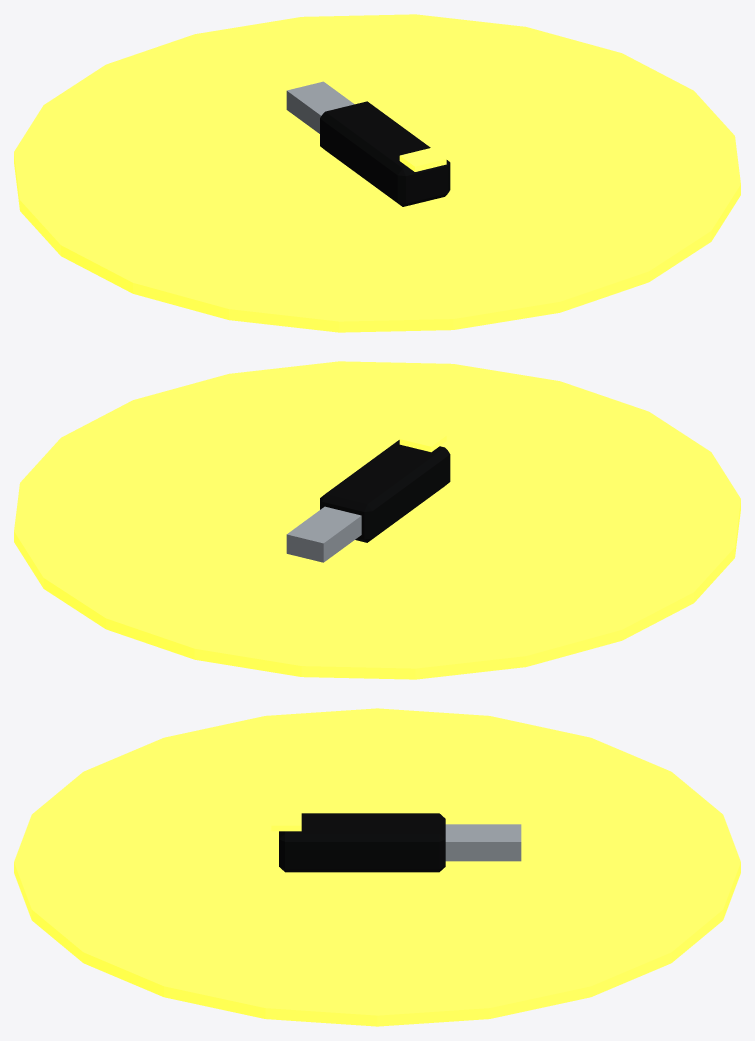
Rendered from usb_drive.glb.
3 views of the same model, one above another, from view 1: azimuth 30°, elevation 25°; view 2: azimuth 150°, elevation 25°; view 3: azimuth 270°, elevation 25° (orthographic).
Parts seen in each view (by area): view 1: usb_drive; view 2: usb_drive; view 3: usb_drive.
Boxes of the visible parts, bbox=[...] form: usb_drive: bbox=[14, 14, 740, 332]; usb_drive: bbox=[14, 361, 740, 679]; usb_drive: bbox=[14, 708, 740, 1026].
Size of the model in its own units: 0.24 by 0.02 by 0.24.
